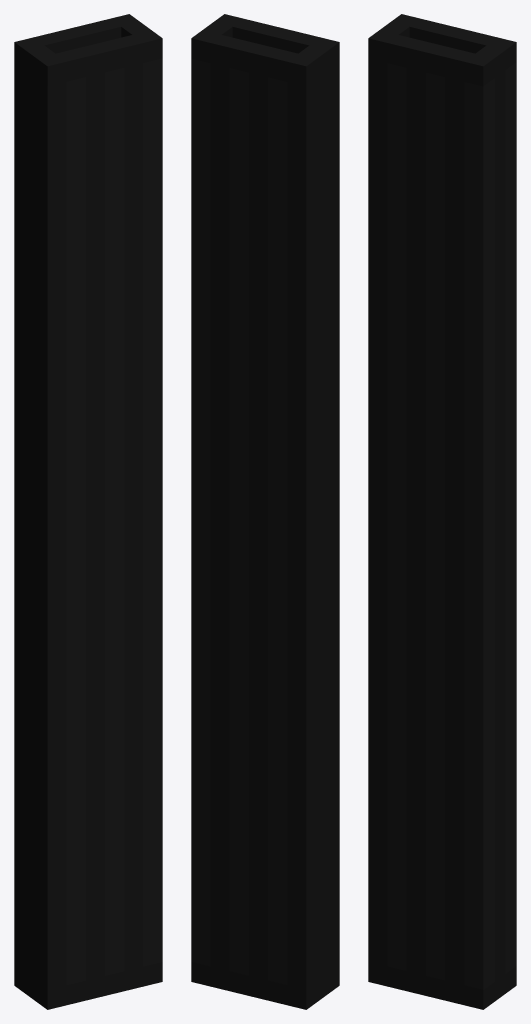
The model's file is Mp40_mag_empty.obj.
3 renders of one model, left to right at view 1: azimuth 30°, elevation 25°; view 2: azimuth 150°, elevation 25°; view 3: azimuth 330°, elevation 25°, orthographic.
Size of the model in its own units: 0.6 by 4.7 by 0.3.
1 material, 1 textured.
